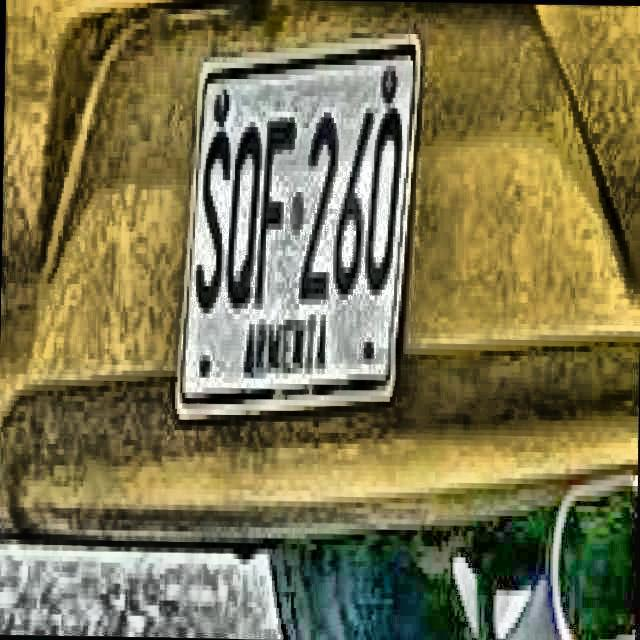plate: (179, 52, 417, 407)
